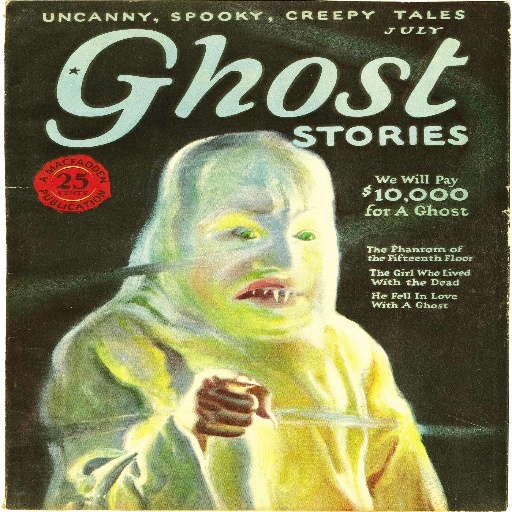hand: (181, 367, 278, 436)
